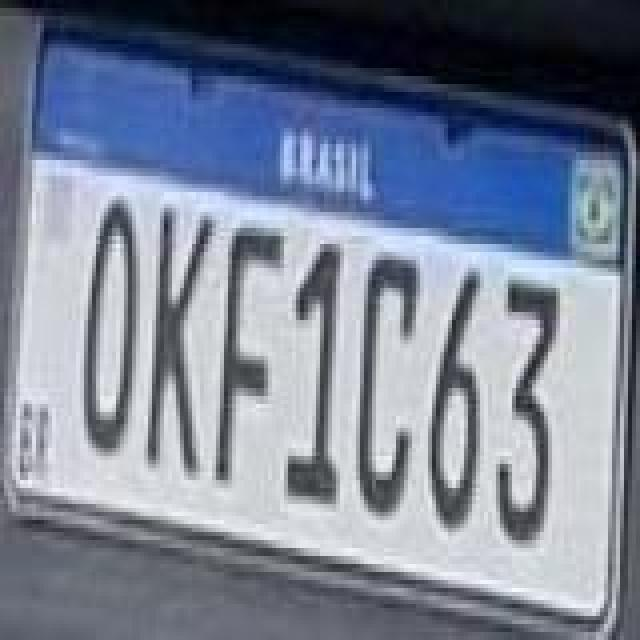1: (282, 234, 342, 502)
3: (492, 276, 564, 548)
6: (426, 266, 486, 534)
C: (356, 250, 428, 518)
F: (212, 218, 284, 486)
K: (148, 202, 220, 478)
O: (80, 194, 144, 454)
